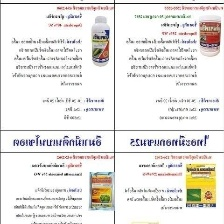insecticide: (183, 162, 217, 209), (86, 169, 116, 214), (198, 13, 223, 58), (90, 16, 111, 67)
